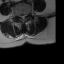CCS_stenosis: (22, 13, 24, 21)
LFS_stenosis: (26, 12, 27, 17)
LLS_normal: (24, 13, 26, 19)
RFS_stenosis: (18, 12, 20, 19)
RLS_stenosis: (20, 13, 22, 19)
